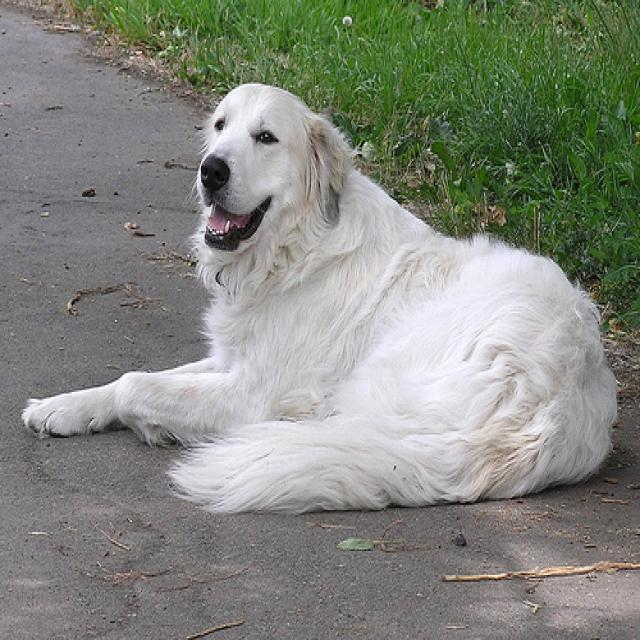dog-great_pyrenees: (14, 68, 622, 517)
